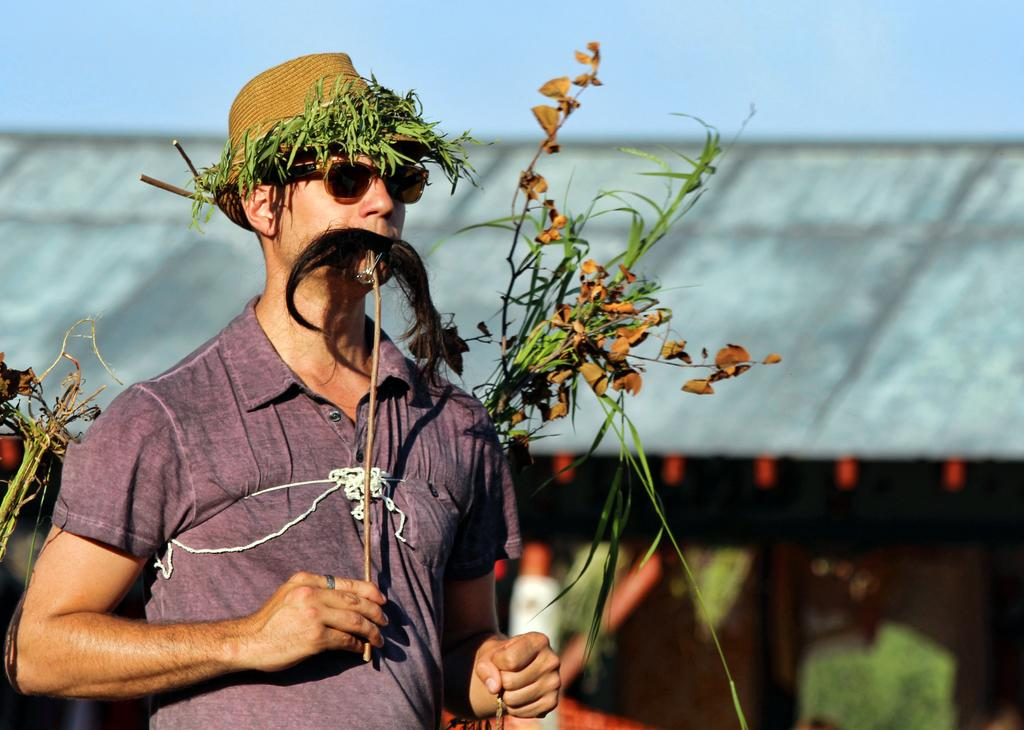Hat: (214, 49, 420, 232)
